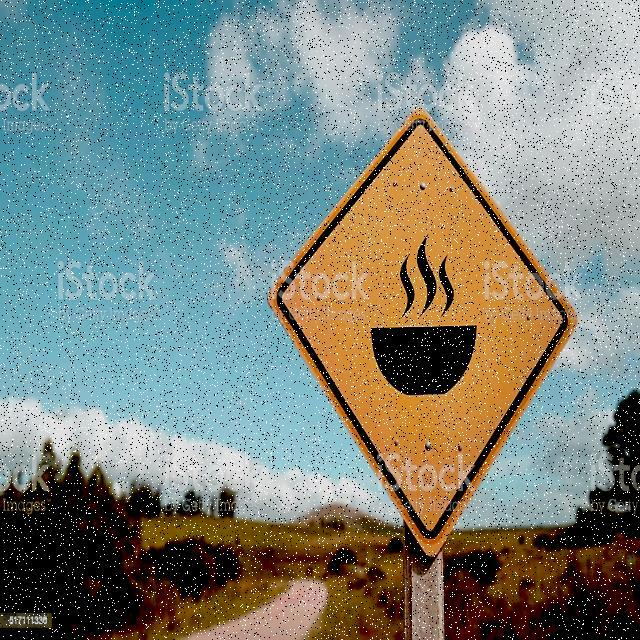Traffic sign: (266, 103, 584, 562)
